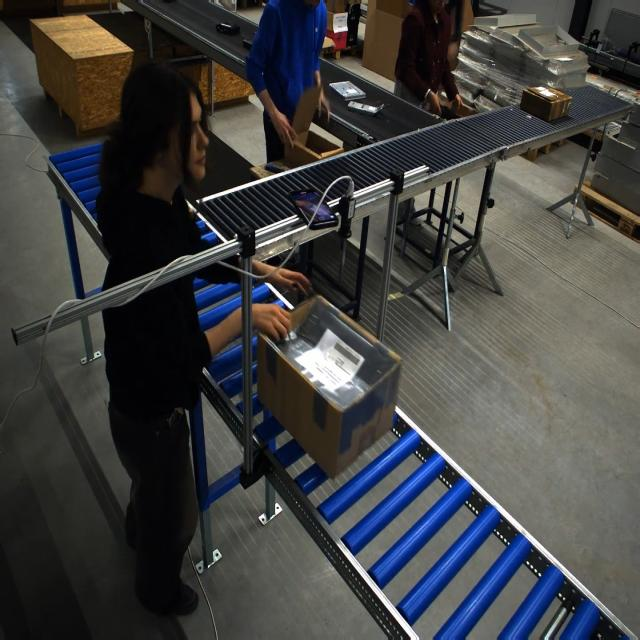box: (257, 300, 390, 479), (270, 78, 339, 169), (519, 85, 573, 123)
product: (328, 80, 364, 101), (347, 100, 381, 115), (356, 132, 376, 149), (215, 22, 241, 35), (242, 38, 253, 50)
